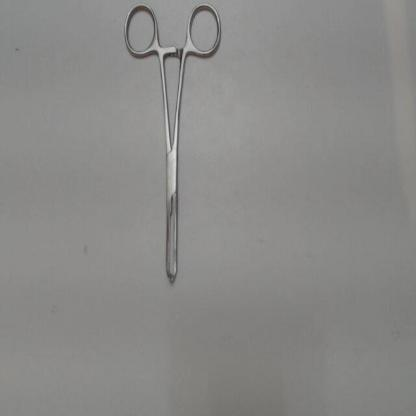Allis Tissue Forceps: (120, 2, 229, 297)
